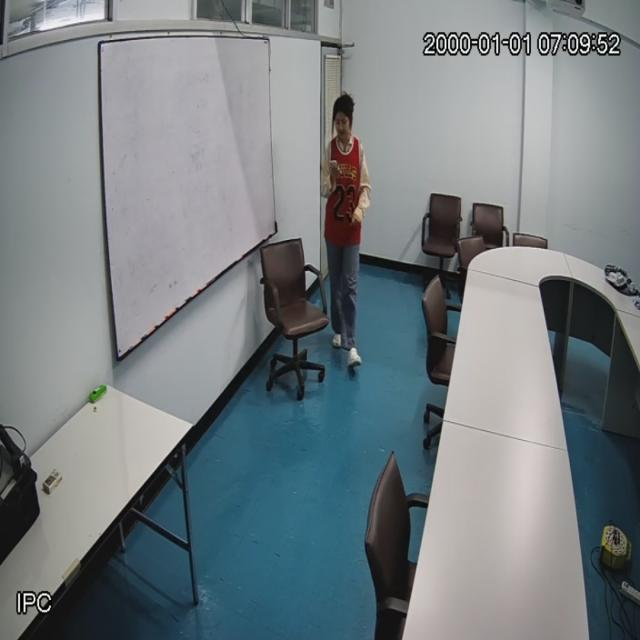normal: (321, 98, 369, 364)
